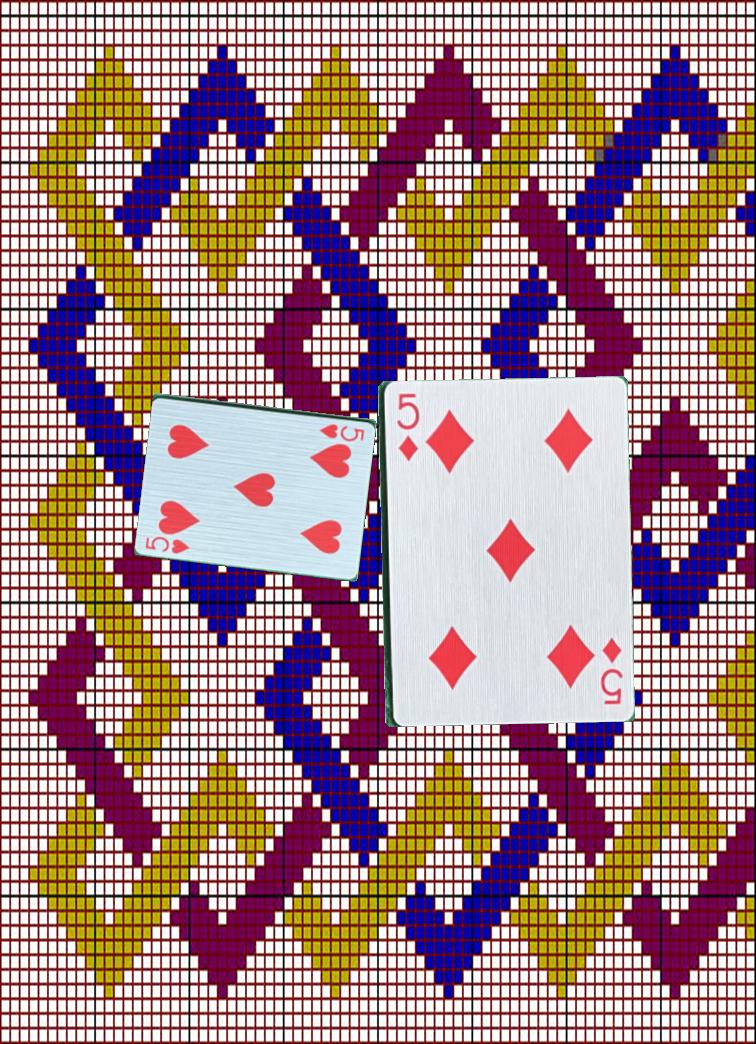5d: (596, 633, 625, 708), (392, 389, 416, 464)
5h: (142, 532, 194, 556), (316, 420, 367, 443)
